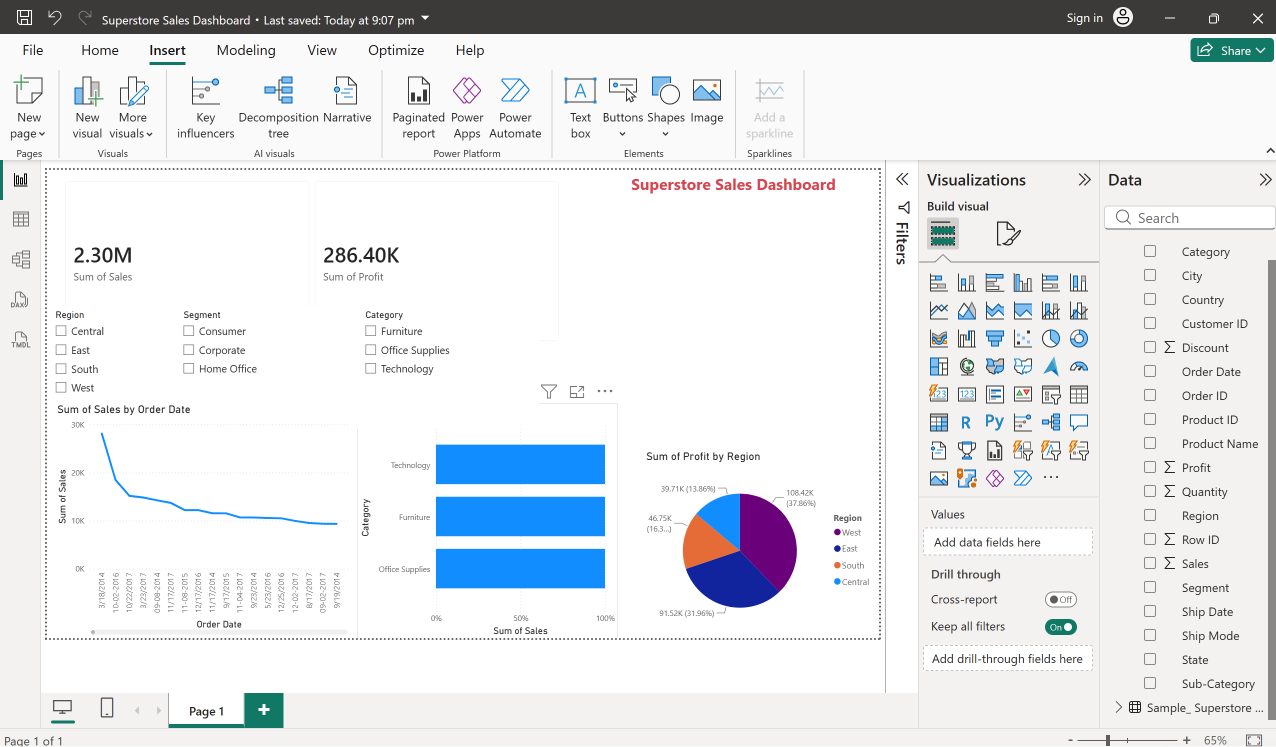

The page's visual inventory and layout, read from the dashboard file:
{"tool":"powerbi","page":{"name":"Page 1","canvas":[1280,720],"ordinal":0},"visuals":[{"type":"cardVisual","fields":{"Data":["Sum(Sample_ Superstore.Sales)","Sum(Sample_ Superstore.Profit)"]},"box":[10.8,0,795.4,280],"z":0},{"type":"hundredPercentStackedBarChart","fields":{"Y":["Sum(Sample_ Superstore.Sales)"],"Category":["Sample_ Superstore.Category"]},"box":[476.9,358.5,401.5,363.1],"z":1},{"type":"pieChart","fields":{"Category":["Sample_ Superstore.Region"],"Y":["Sum(Sample_ Superstore.Profit)"]},"box":[916.9,430.8,363.1,290.8],"z":2},{"type":"lineChart","fields":{"Category":["Sample_ Superstore.Order Date"],"Y":["Sum(Sample_ Superstore.Sales)"]},"box":[10.8,358.5,456.9,361.5],"z":3},{"type":"slicer","fields":{"Values":["Sample_ Superstore.Region"]},"box":[0,209.2,280,138.5],"z":4},{"type":"slicer","fields":{"Values":["Sample_ Superstore.Segment"]},"box":[196.9,209.2,280,149.2],"z":5},{"type":"slicer","fields":{"Values":["Sample_ Superstore.Category"]},"box":[476.9,209.2,280,189.2],"z":6},{"type":"textbox","box":[893.8,0,386.2,53.8],"z":7}]}

Visuals, with their boxes on the page's 1280x720 design canvas (x1, y1, x2, y2). These are canvas units, not pixel positions in the 1276x747 screenshot, which may show the page scaled, cropped or inside an application window:
cardVisual - Sum(Sample_ Superstore.Sales) x Sum(Sample_ Superstore.Profit): bbox=(11, 0, 806, 280)
hundredPercentStackedBarChart - Sum(Sample_ Superstore.Sales) x Sample_ Superstore.Category: bbox=(477, 358, 878, 722)
pieChart - Sample_ Superstore.Region x Sum(Sample_ Superstore.Profit): bbox=(917, 431, 1280, 722)
lineChart - Sample_ Superstore.Order Date x Sum(Sample_ Superstore.Sales): bbox=(11, 358, 468, 720)
slicer - Sample_ Superstore.Region: bbox=(0, 209, 280, 348)
slicer - Sample_ Superstore.Segment: bbox=(197, 209, 477, 358)
slicer - Sample_ Superstore.Category: bbox=(477, 209, 757, 398)
textbox: bbox=(894, 0, 1280, 54)
